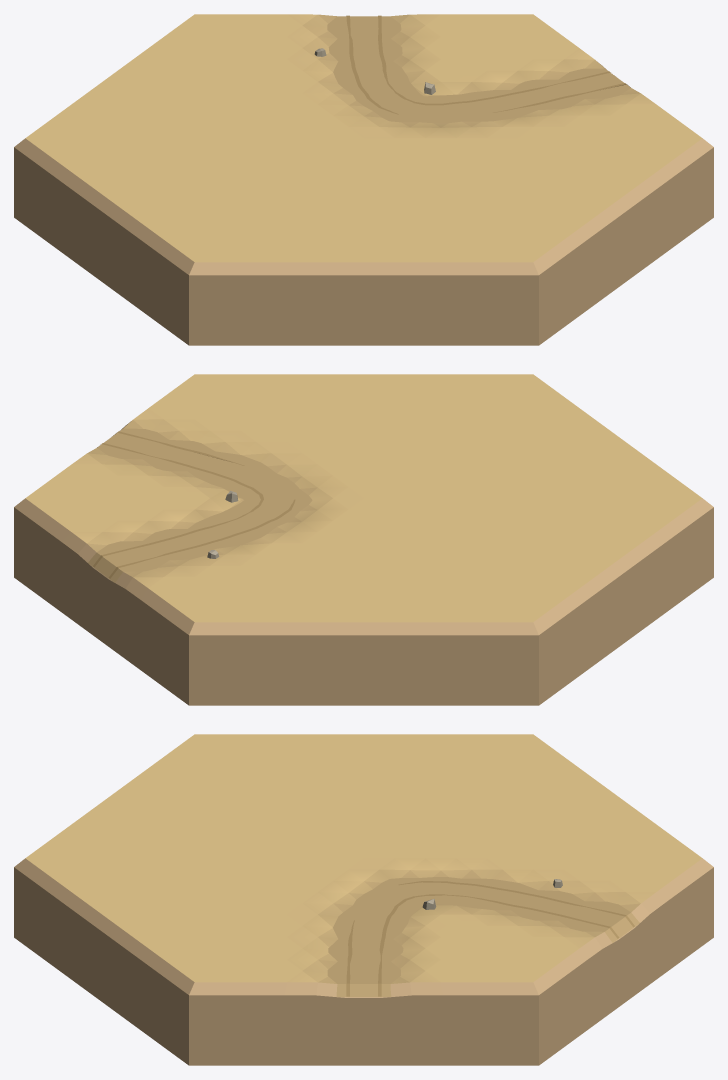
Rendered from road_sharp_dry.fbx.
3 views of the same model, one above another, from view 1: azimuth 30°, elevation 25°; view 2: azimuth 150°, elevation 25°; view 3: azimuth 270°, elevation 25° (orthographic).
Parts seen in each view (by area): view 1: road_sharp_dry; view 2: road_sharp_dry; view 3: road_sharp_dry.
Part boxes in pixels (box(x1,y1,x2,y2)): road_sharp_dry: box(14, 14, 713, 345); road_sharp_dry: box(14, 374, 713, 705); road_sharp_dry: box(14, 734, 713, 1065).
Bounding box in the file's own units: 1.73 × 0.2715 × 2.
